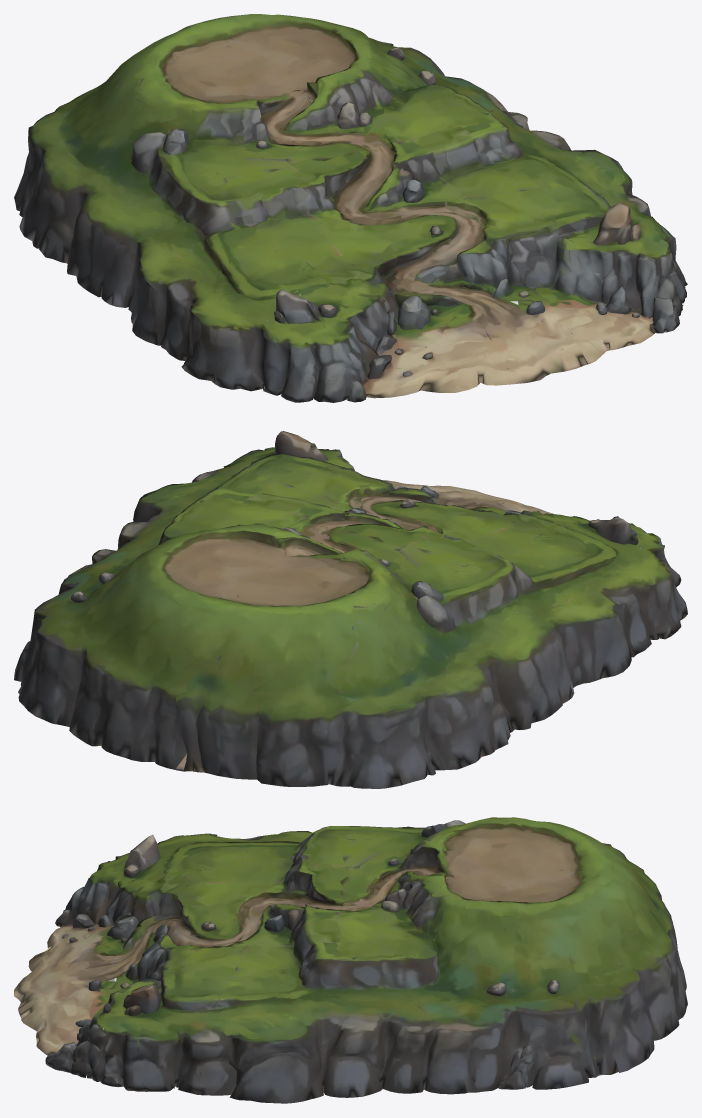
File: island.glb
3 renders of one model, top to bottom at view 1: azimuth 30°, elevation 25°; view 2: azimuth 150°, elevation 25°; view 3: azimuth 270°, elevation 25°, orthographic. The views are drawn at different scales.
Bounding box in the file's own units: 0.7588 × 0.1963 × 0.957.
1 material, 1 textured.
